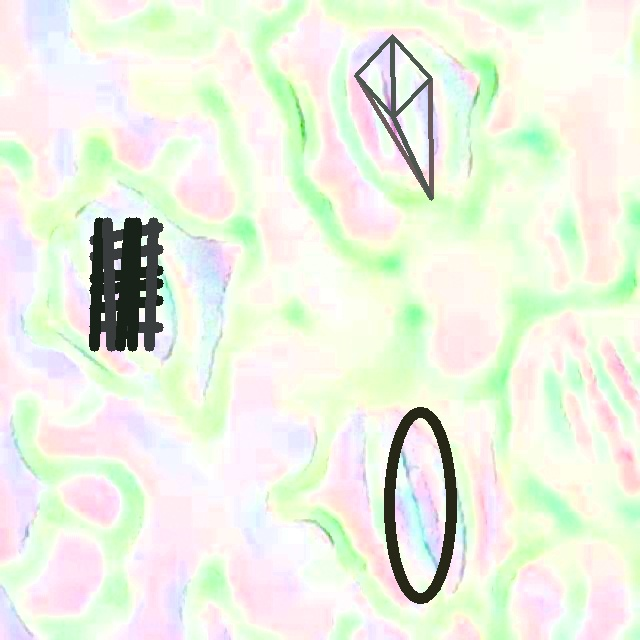open: (383, 407, 456, 603), (354, 34, 432, 200), (90, 217, 162, 351)
